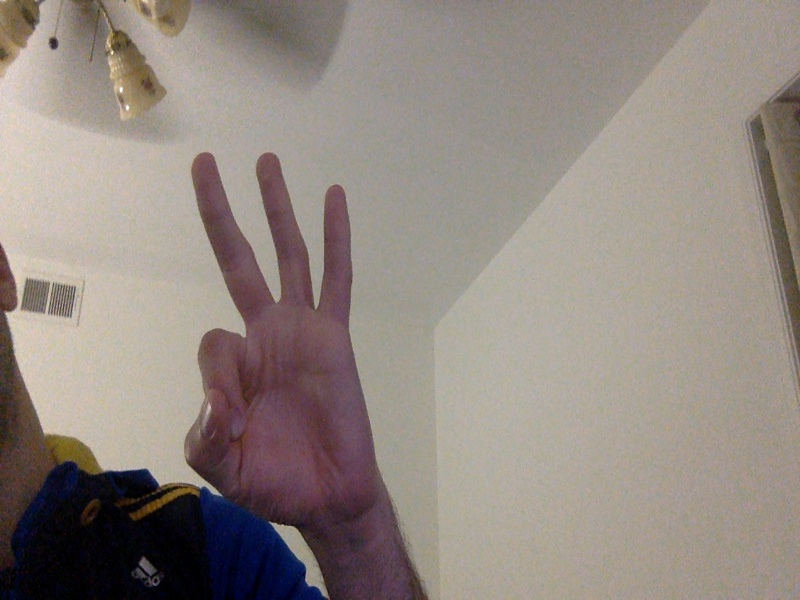3-hand: (186, 151, 374, 529)
